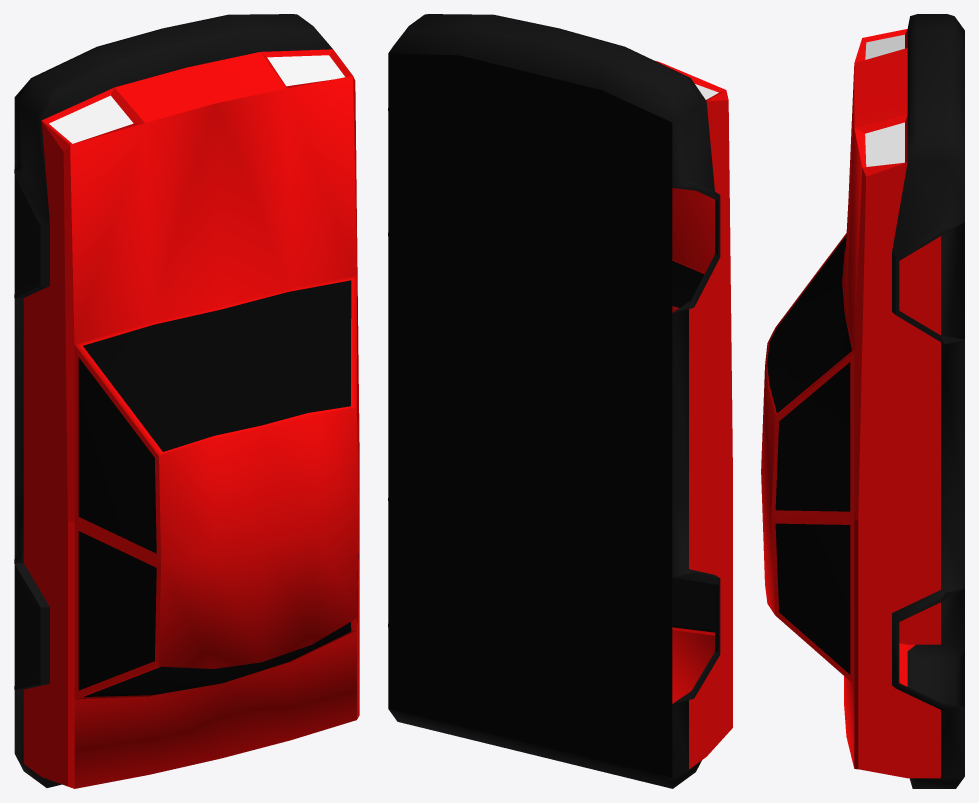
File: car.obj
3 renders of one model, left to right at view 1: azimuth 30°, elevation 25°; view 2: azimuth 150°, elevation 25°; view 3: azimuth 270°, elevation 25°, orthographic. The views are drawn at different scales.
Parts seen in each view (by area): view 1: car; view 2: car; view 3: car.
Boxes of the visible parts, x1,y1,x2,y2 form: car: (14, 14, 359, 788); car: (388, 14, 732, 788); car: (761, 14, 964, 788).
Size of the model in its own units: 2.1 by 4.66 by 1.29.
